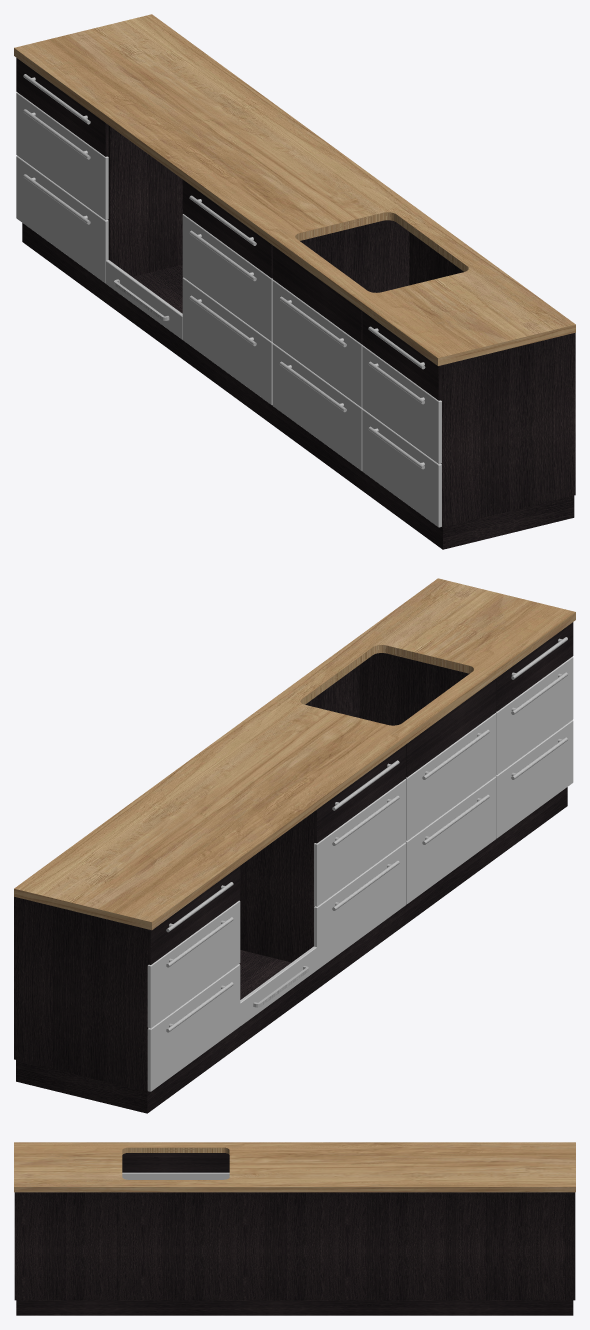
File: Kitchen Furniture 1.FBX
3 renders of one model, top to bottom at view 1: azimuth 30°, elevation 25°; view 2: azimuth 150°, elevation 25°; view 3: azimuth 270°, elevation 25°, orthographic. The views are drawn at different scales.
Parts seen in each view (by area): view 1: Kitchen Furniture 1; view 2: Kitchen Furniture 1; view 3: Kitchen Furniture 1.
Part boxes in pixels (x1=…): Kitchen Furniture 1: x1=14, y1=14, x2=575, y2=549; Kitchen Furniture 1: x1=14, y1=578, x2=575, y2=1113; Kitchen Furniture 1: x1=14, y1=1142, x2=575, y2=1315.
Bounding box in the file's own units: 65.63 × 85.56 × 338.
